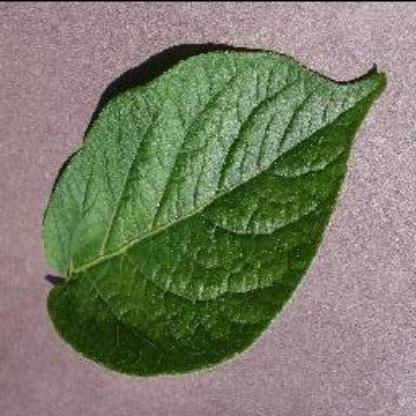Healthy-plant: (33, 42, 401, 380)
